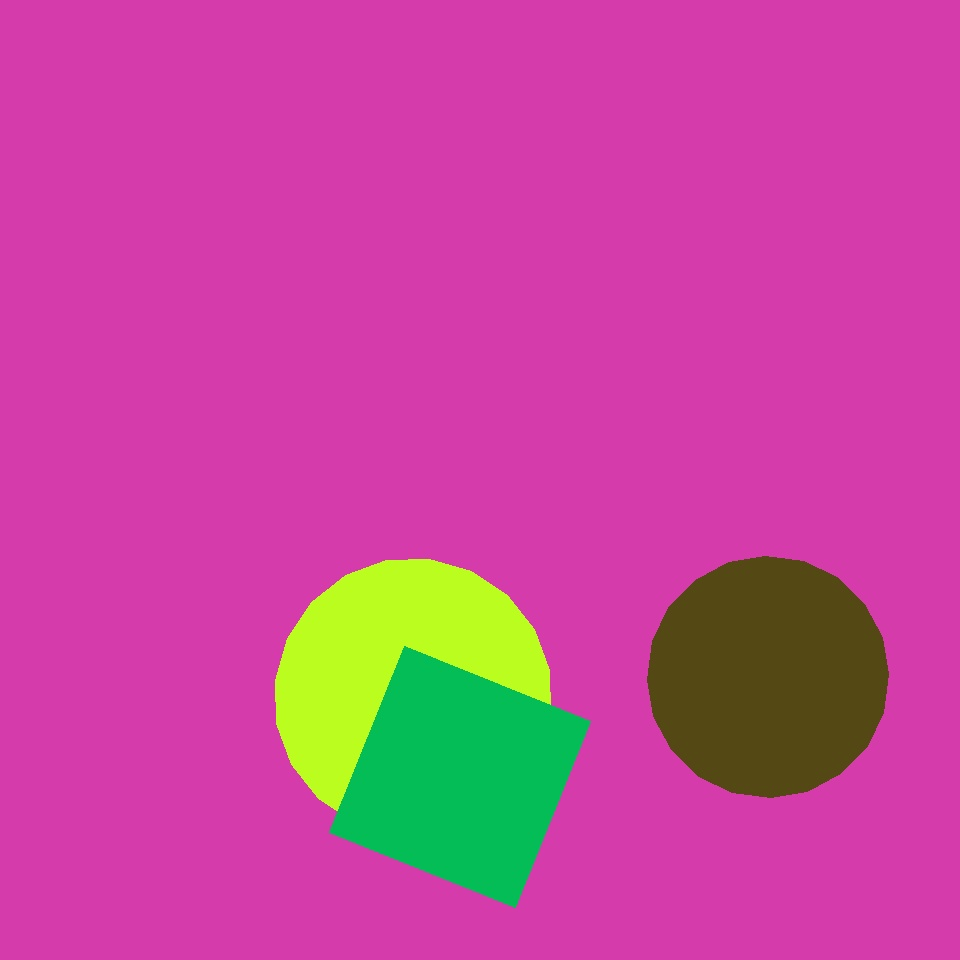circle: (57, 269, 370, 580), (371, 401, 659, 697), (678, 523, 851, 690)
square: (537, 489, 876, 828), (330, 646, 590, 908), (68, 128, 324, 383)
triangle: (276, 560, 550, 834), (648, 556, 888, 798), (560, 108, 711, 260)
